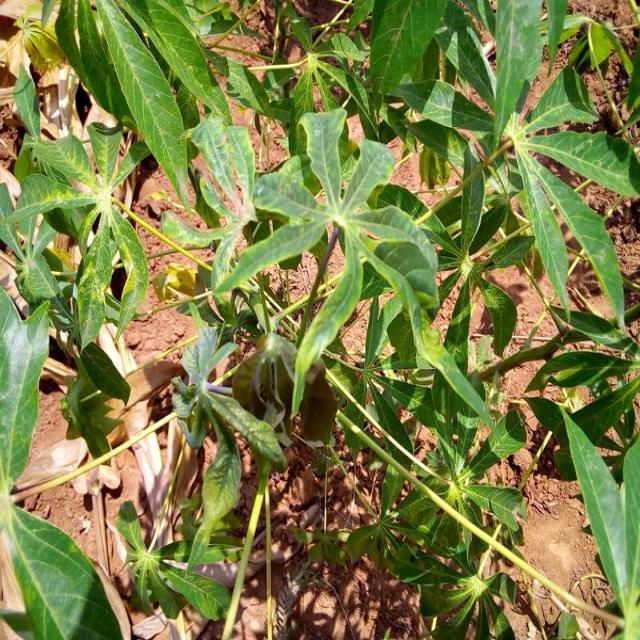cassava leaf: (1, 0, 638, 638), (211, 105, 441, 414)
